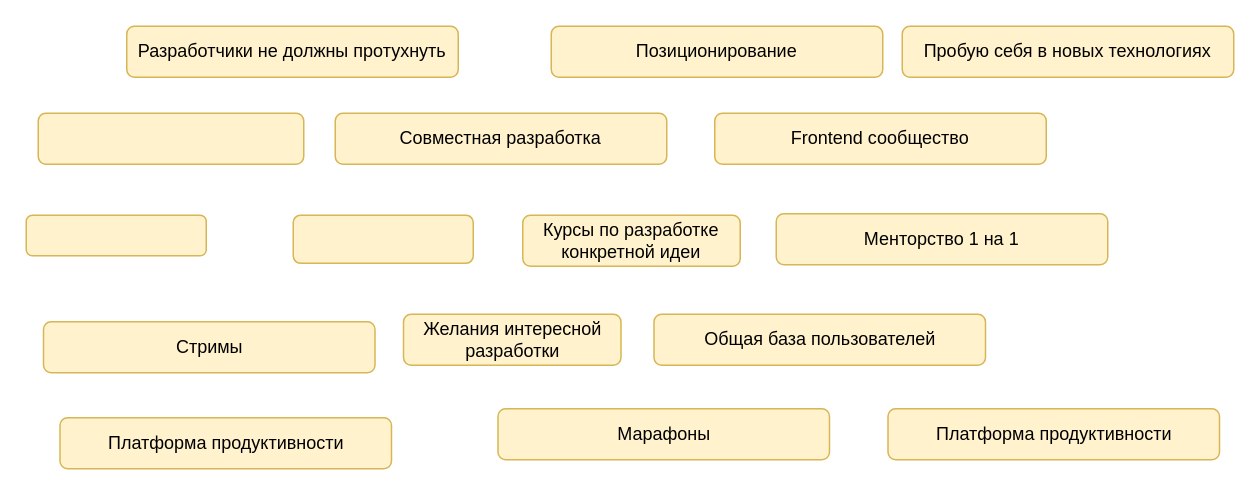
The diagram is 1260 pixels wide and 495 high, and some of its shapes have lost their labels. The centre of each missing label's shape, as x and y in pixels:
Образовательные Ролики: the point at 382,238
Подкаст: the point at 115,235
Удобные инструменты для разработчиков: the point at 170,138
